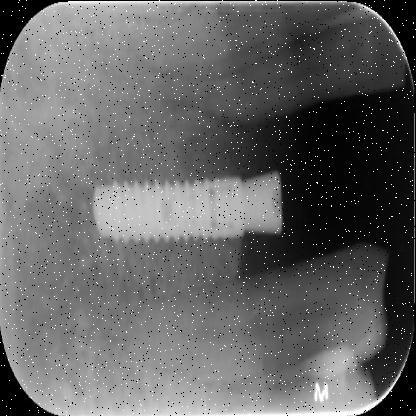ITI: (89, 170, 246, 245)
